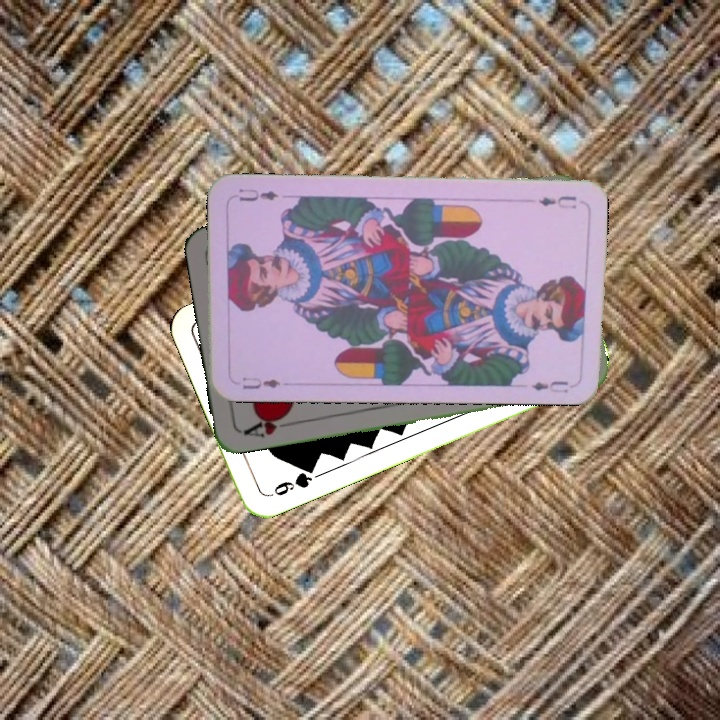EU: (238, 372, 283, 392), (534, 191, 579, 210)
G9: (264, 463, 318, 500)
HA: (239, 409, 298, 441)
